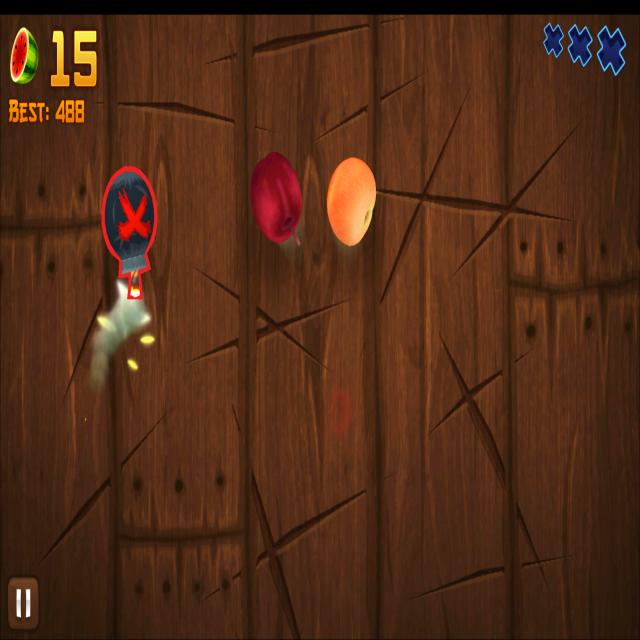bomb: (102, 166, 158, 300)
fruit: (250, 150, 302, 244), (327, 158, 376, 246)
